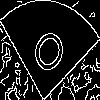O: (24, 24, 69, 84)
